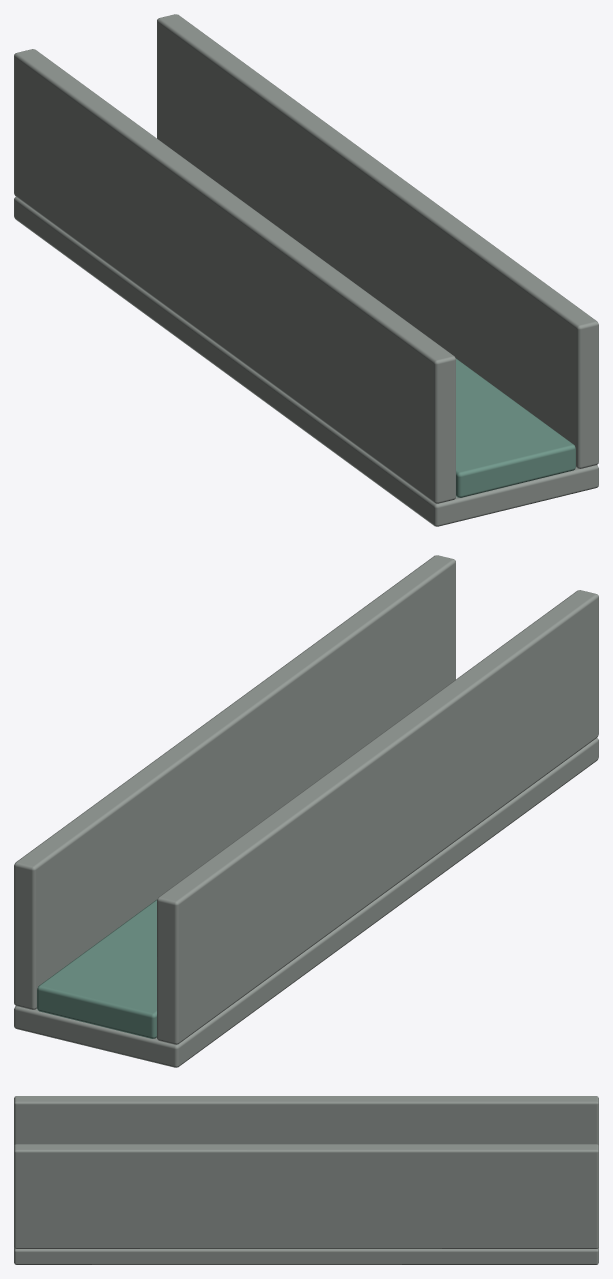
Rendered from canal-boats-and-lock-operations-canal-boats-and-lock-o-8e6e1339__31639.glb.
3 renders of one model, top to bottom at view 1: azimuth 30°, elevation 25°; view 2: azimuth 150°, elevation 25°; view 3: azimuth 270°, elevation 25°, orthographic. The views are drawn at different scales.
Parts seen in each view (by area): view 1: canal-boats-and-lock-operations-bywash-channel; view 2: canal-boats-and-lock-operations-bywash-channel; view 3: canal-boats-and-lock-operations-bywash-channel.
Boxes of the visible parts, x1,y1,x2,y2 form: canal-boats-and-lock-operations-bywash-channel: (14, 14, 598, 526); canal-boats-and-lock-operations-bywash-channel: (14, 555, 598, 1067); canal-boats-and-lock-operations-bywash-channel: (14, 1096, 598, 1264).
Bounding box in the file's own units: 0.8999 × 0.8701 × 4.
